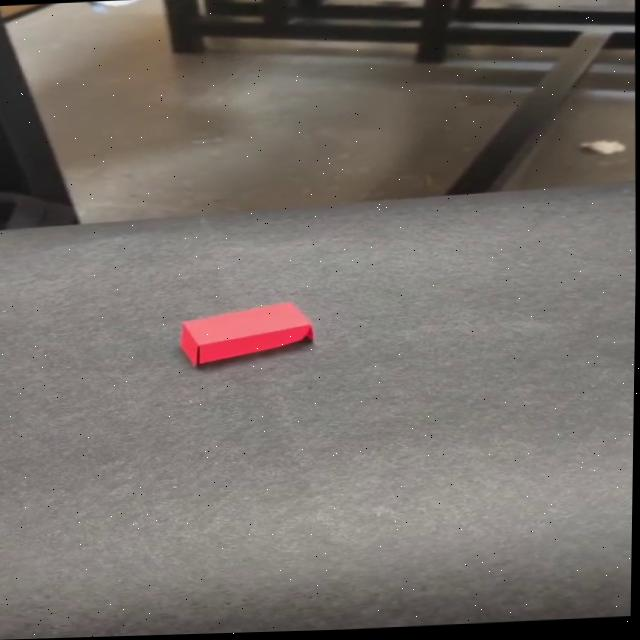red block: (175, 299, 315, 367)
